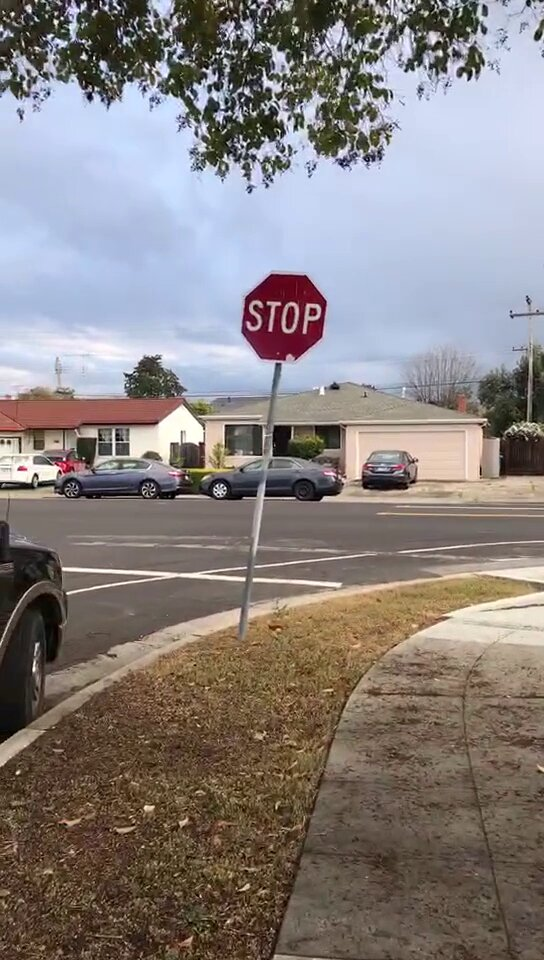stop_sign: (240, 274, 328, 361)
